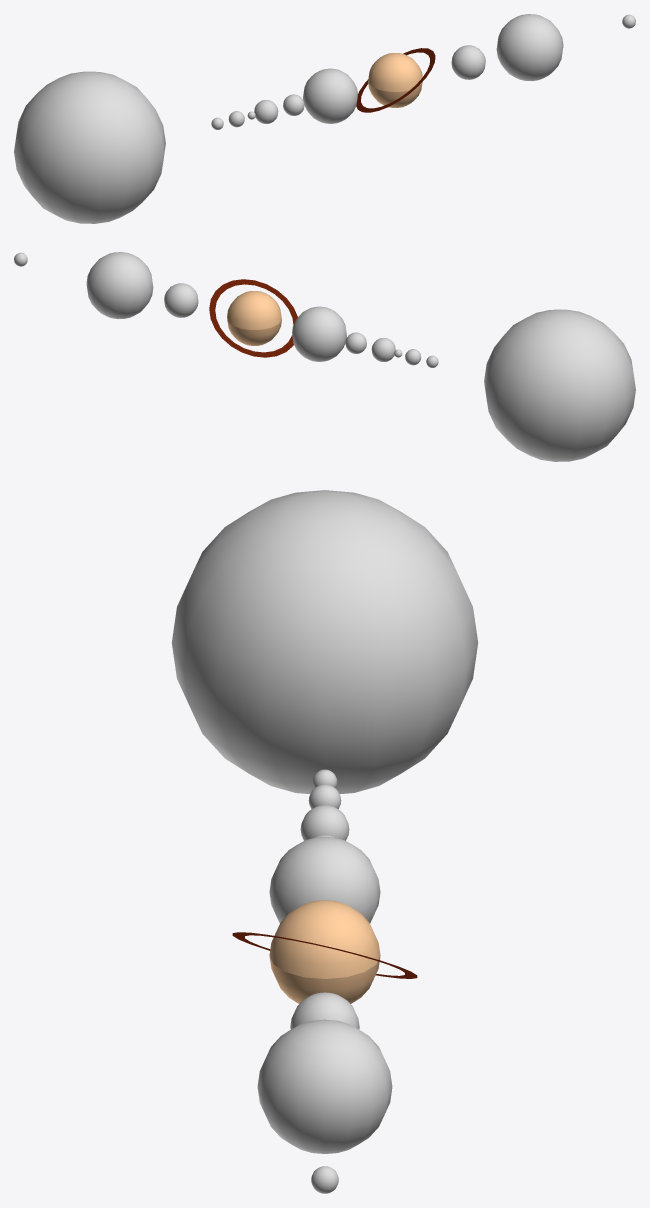
3 renders of one model, top to bottom at view 1: azimuth 30°, elevation 25°; view 2: azimuth 150°, elevation 25°; view 3: azimuth 270°, elevation 25°, orthographic. The views are drawn at different scales.
Parts seen in each view (by area): view 1: sphere_001, sphere_009, sphere_007, sphere_006, sphere_008, sphere_011, sphere_005; view 2: sphere_001, sphere_007, sphere_009, sphere_006, sphere_008, sphere_011, sphere_005; view 3: sphere_001, sphere_009, sphere_007, sphere_006, sphere_008, sphere_011.
Boxes of the visible parts, left/top/right/bottom form: sphere_001: left=14, top=71, right=165, bottom=223; sphere_009: left=496, top=14, right=563, bottom=80; sphere_007: left=356, top=48, right=435, bottom=112; sphere_006: left=303, top=68, right=357, bottom=123; sphere_008: left=451, top=45, right=485, bottom=79; sphere_011: left=254, top=100, right=278, bottom=123; sphere_005: left=283, top=94, right=304, bottom=115; sphere_001: left=484, top=309, right=635, bottom=461; sphere_007: left=209, top=279, right=297, bottom=357; sphere_009: left=86, top=252, right=153, bottom=318; sphere_006: left=292, top=306, right=346, bottom=361; sphere_008: left=164, top=283, right=198, bottom=317; sphere_011: left=371, top=338, right=395, bottom=361; sphere_005: left=345, top=332, right=366, bottom=353; sphere_001: left=171, top=490, right=478, bottom=794; sphere_009: left=257, top=1019, right=392, bottom=1153; sphere_007: left=232, top=900, right=417, bottom=1003; sphere_006: left=269, top=837, right=380, bottom=923; sphere_008: left=290, top=992, right=359, bottom=1029; sphere_011: left=300, top=805, right=349, bottom=840.
Bounding box in the file's own units: 29674 × 6441 × 6441.
